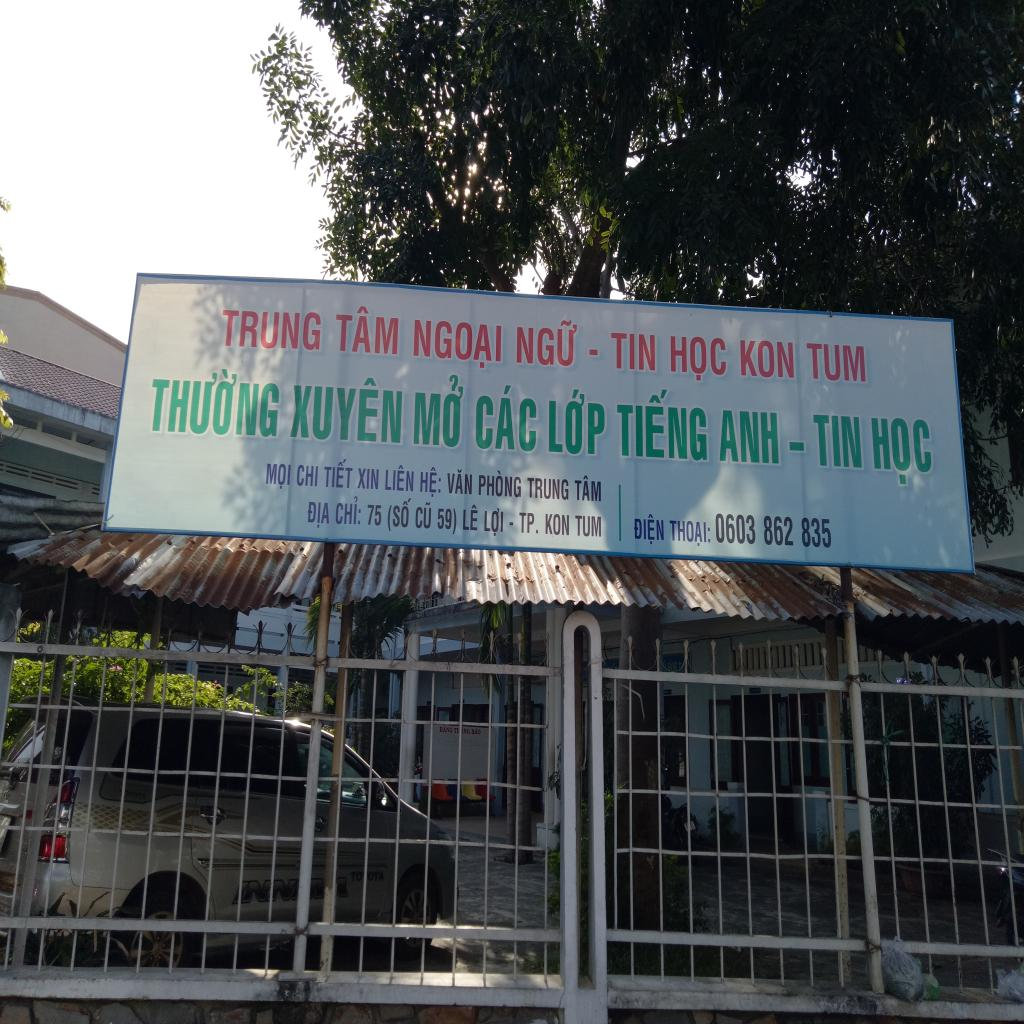text: (142, 363, 282, 443), (286, 368, 407, 451), (613, 384, 709, 464), (408, 308, 506, 375), (219, 301, 325, 356), (714, 507, 835, 551), (867, 410, 935, 486), (473, 380, 540, 456), (546, 386, 610, 463), (411, 368, 467, 453), (716, 405, 781, 468), (808, 406, 866, 475), (334, 304, 405, 360), (512, 318, 582, 370), (666, 329, 728, 385), (802, 339, 869, 386), (735, 333, 797, 383), (609, 325, 658, 374), (230, 876, 298, 906), (478, 469, 523, 500), (669, 518, 712, 550), (630, 512, 667, 548), (528, 474, 570, 502), (332, 493, 364, 528), (385, 494, 413, 534), (322, 456, 354, 490), (383, 464, 415, 494), (263, 459, 292, 492), (418, 463, 443, 500), (572, 473, 602, 503), (304, 500, 332, 530), (543, 510, 571, 540), (446, 468, 473, 498), (574, 512, 602, 540), (481, 507, 506, 538), (356, 462, 380, 492), (412, 500, 435, 531), (436, 506, 458, 536), (295, 464, 320, 490), (460, 503, 481, 532), (517, 510, 535, 534), (366, 503, 383, 526), (311, 876, 324, 900), (128, 789, 149, 802), (367, 872, 384, 882), (351, 870, 363, 884), (438, 725, 452, 734), (471, 727, 482, 735), (453, 727, 460, 734), (463, 727, 470, 734), (896, 678, 902, 683), (535, 528, 539, 535)
